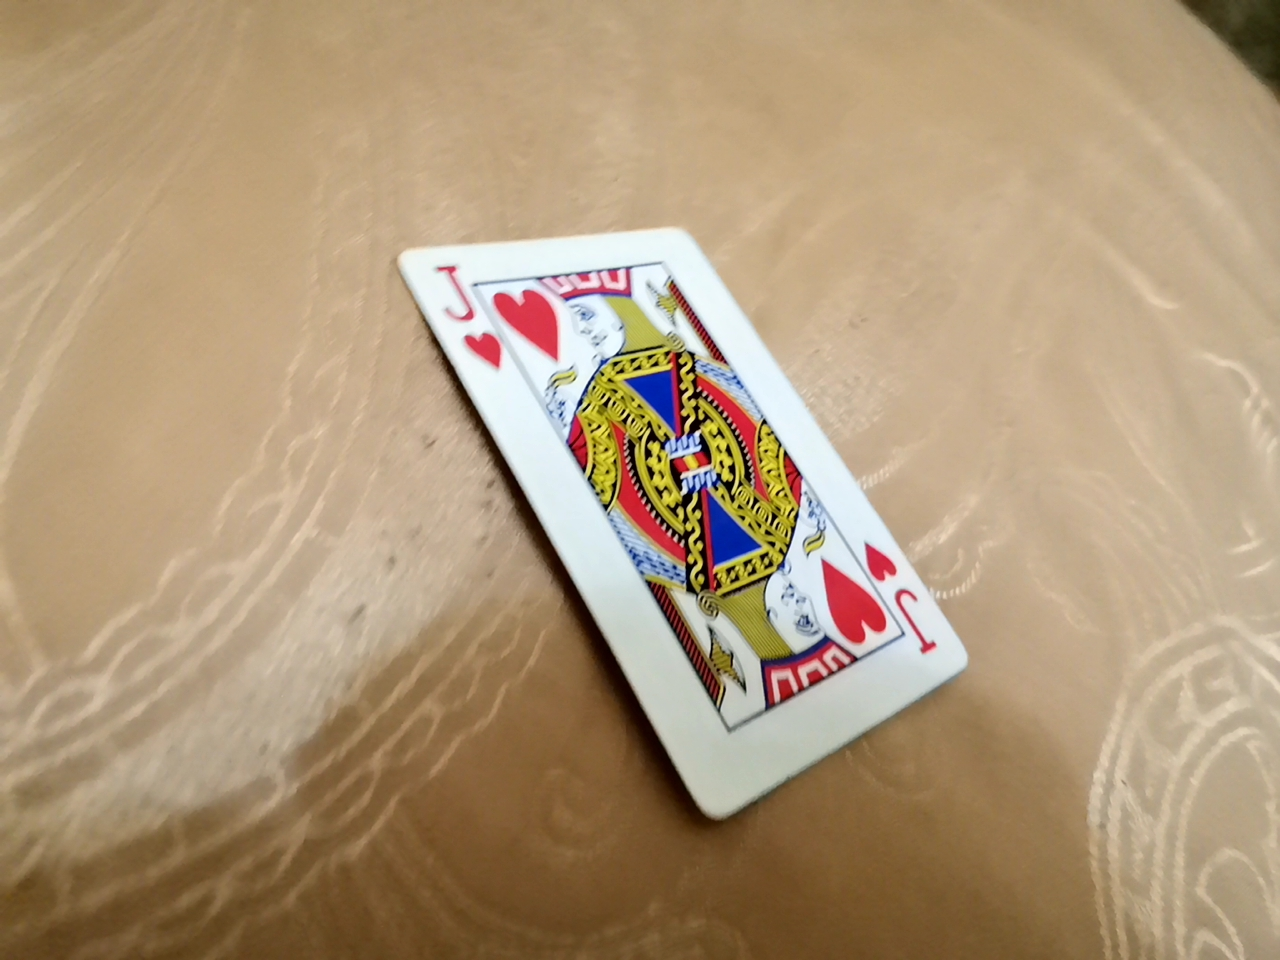hx j: (371, 223, 977, 857)
